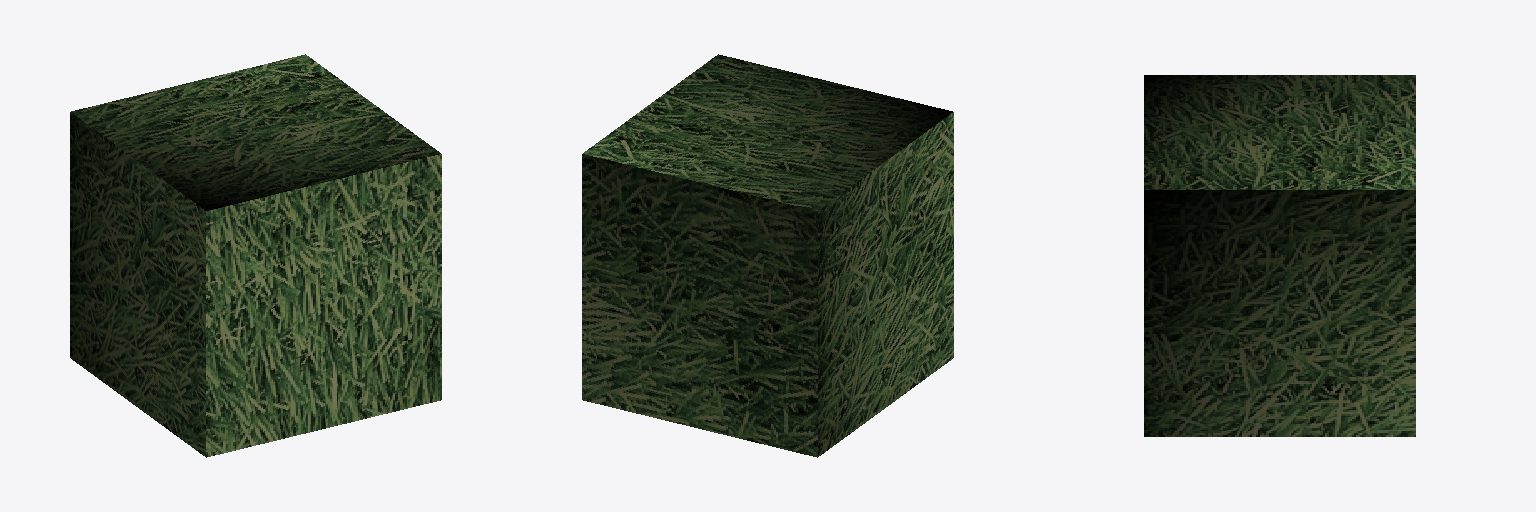
3 views of the same model, side by side, from view 1: azimuth 30°, elevation 25°; view 2: azimuth 150°, elevation 25°; view 3: azimuth 270°, elevation 25° (orthographic).
Visible parts, largest first — view 1: Cube; view 2: Cube; view 3: Cube.
Boxes of the visible parts, <box> form: Cube: <box>70,54,441,457</box>; Cube: <box>582,54,953,457</box>; Cube: <box>1144,75,1415,436</box>.
Bounding box in the file's own units: 2 × 2 × 2.
1 materials, 1 textured.